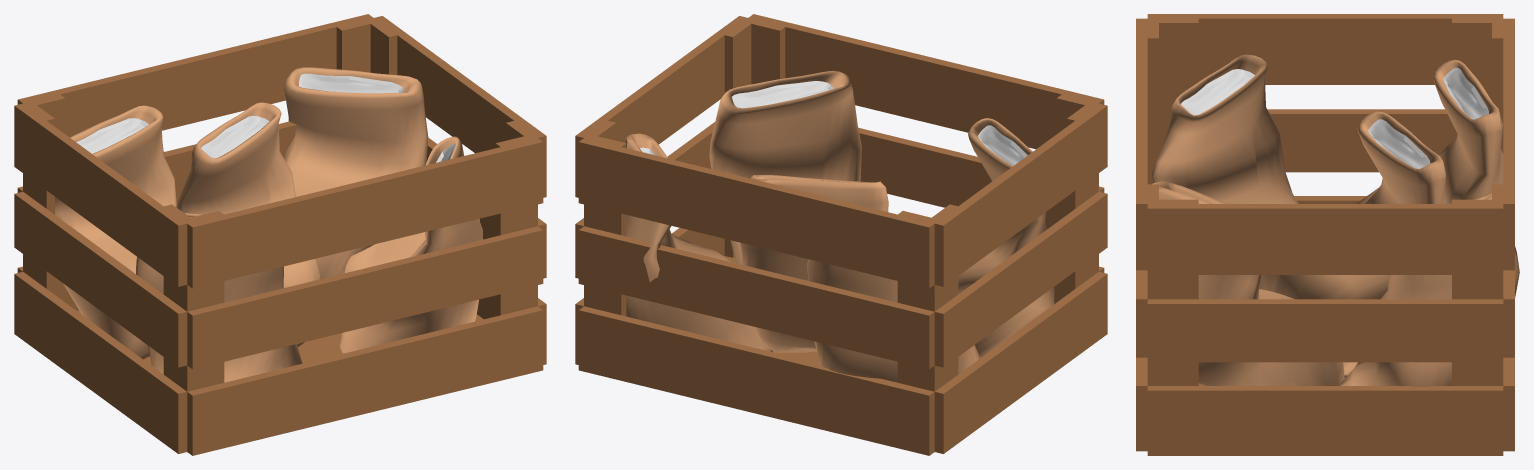
The model's file is ASFTR_CrateRice.fbx.
The picture shows the model from 3 angles, left to right: view 1: azimuth 30°, elevation 25°; view 2: azimuth 150°, elevation 25°; view 3: azimuth 270°, elevation 25°; orthographic projection. The views are drawn at different scales.
Parts seen in each view (by area): view 1: ASFTR_CrateRice; view 2: ASFTR_CrateRice; view 3: ASFTR_CrateRice.
Boxes of the visible parts, x1=… form: ASFTR_CrateRice: x1=14, y1=14, x2=546, y2=455; ASFTR_CrateRice: x1=575, y1=14, x2=1107, y2=455; ASFTR_CrateRice: x1=1136, y1=14, x2=1519, y2=455.
Bounding box in the file's own units: 97.16 × 57.69 × 80.98.
